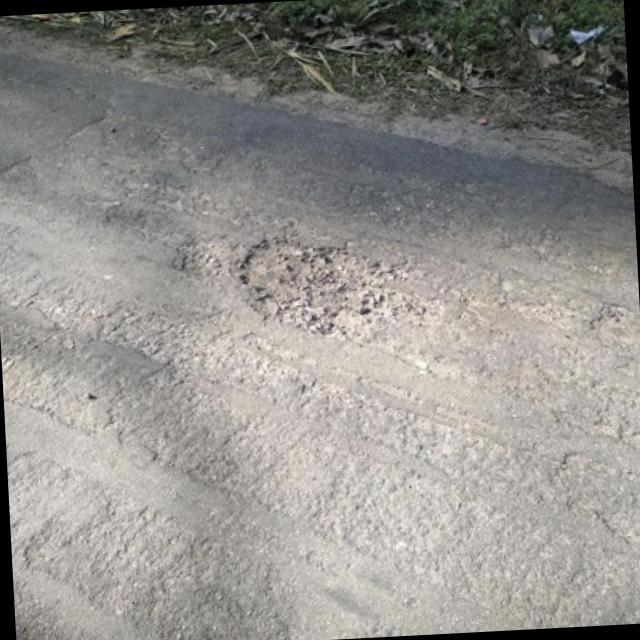Pothole: (226, 226, 443, 339), (559, 302, 640, 347)
